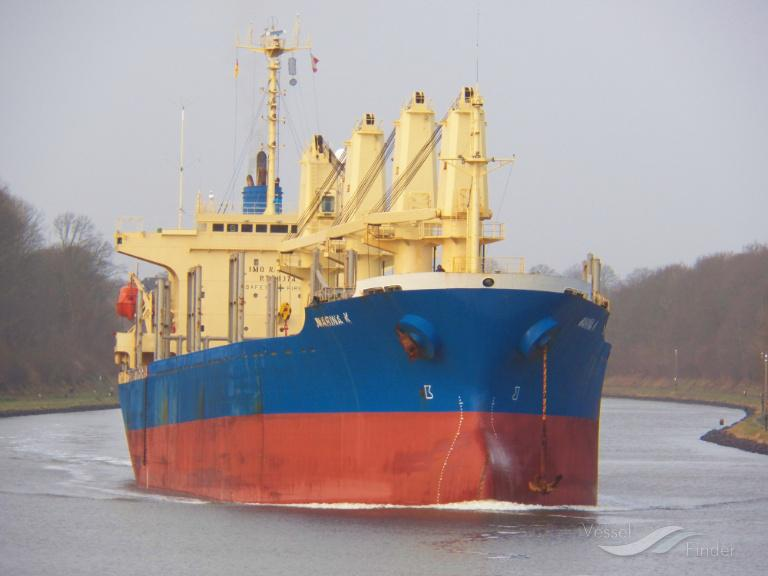OCR: (310, 308, 356, 330), (572, 314, 606, 337)
